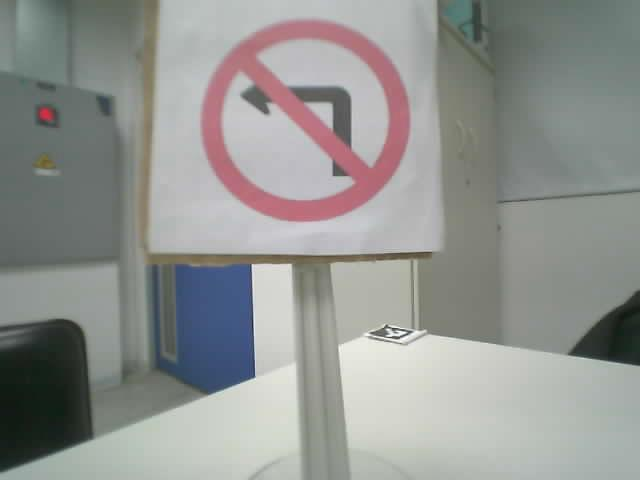R-4a_proibido-esquerda: (200, 18, 408, 221)
